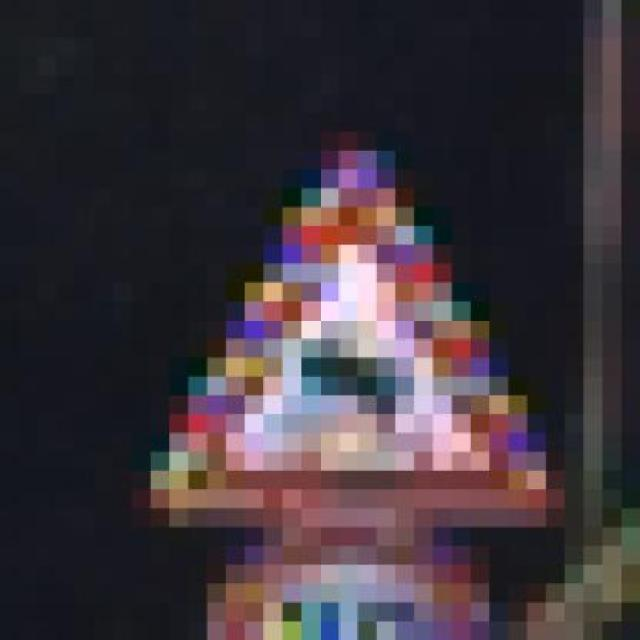Slippery Road Ahead: (113, 112, 584, 546)
